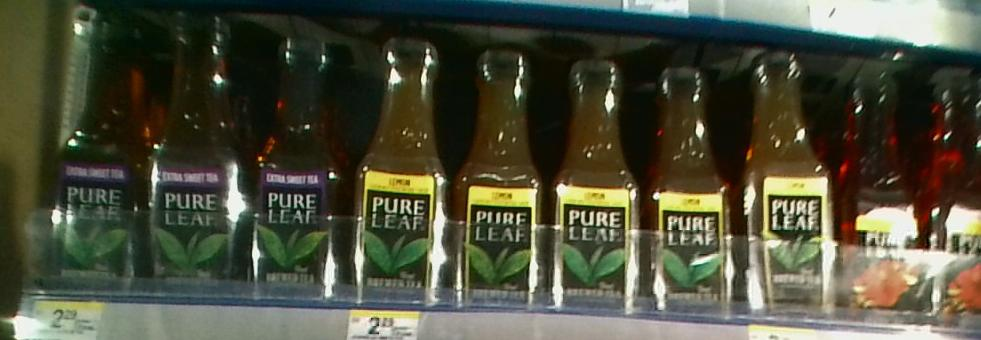bottle: (147, 8, 248, 284), (542, 55, 648, 316), (246, 29, 347, 300), (348, 36, 447, 304), (48, 10, 144, 283), (741, 50, 837, 320), (449, 44, 546, 309), (650, 53, 742, 321), (836, 59, 928, 309), (928, 54, 981, 321)
